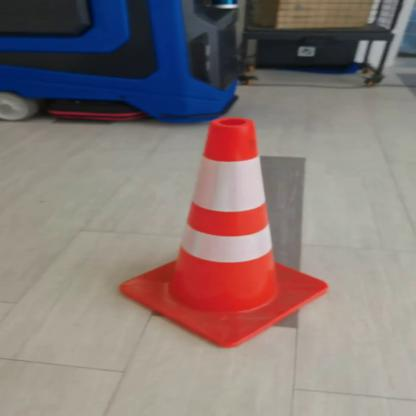cone: (108, 112, 339, 349)
